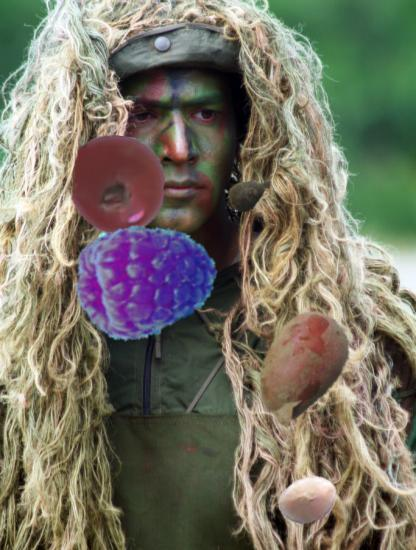Beetroot: (221, 167, 275, 221)
Hazelnut: (277, 469, 340, 532)
Potato: (240, 306, 363, 429)
Raspberry: (72, 205, 213, 346)
Redcurrant: (70, 136, 169, 235)
